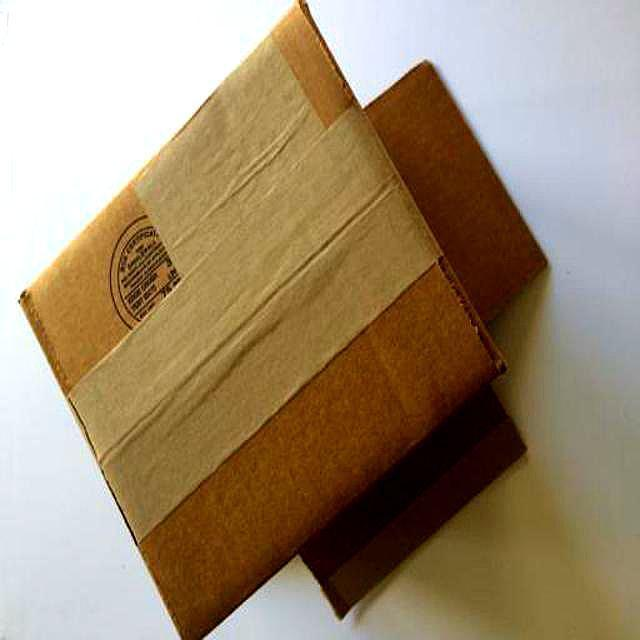Biodegradable: (16, 1, 562, 640)
